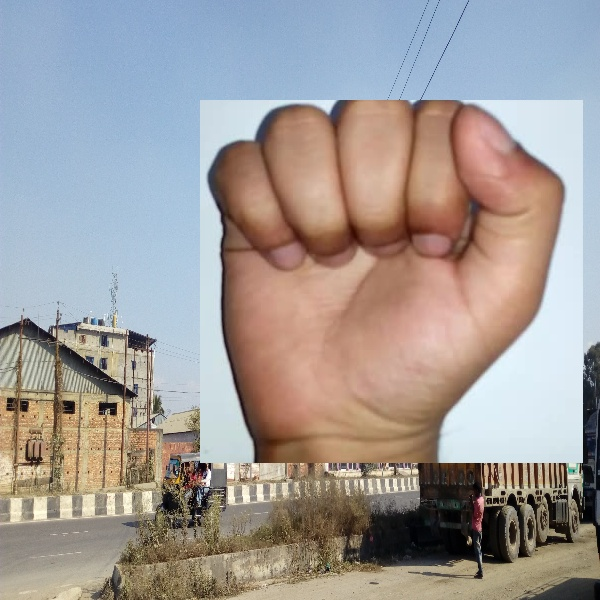F: (200, 100, 583, 463)
